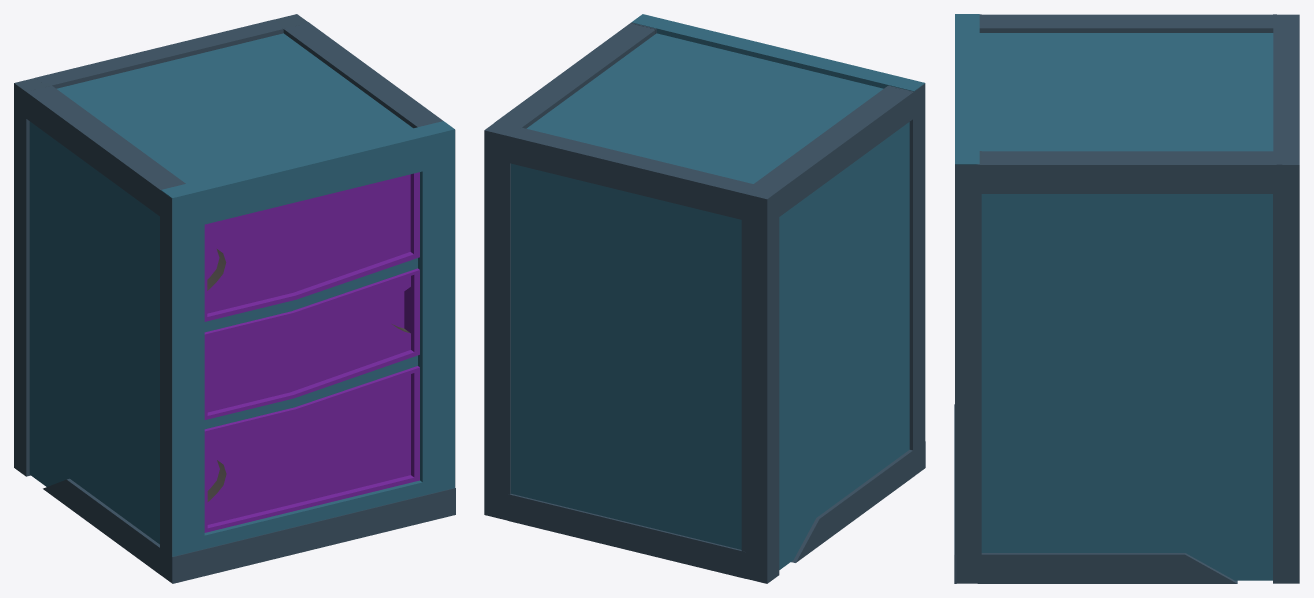
The model's file is bedside_table_tier18.fbx.
3 renders of one model, left to right at view 1: azimuth 30°, elevation 25°; view 2: azimuth 150°, elevation 25°; view 3: azimuth 270°, elevation 25°, orthographic. The views are drawn at different scales.
Parts seen in each view (by area): view 1: Cube.022, Cube.001, Cube.017, Cube.007, Cube.002, Cube.023, Cube.013, Cube.021, Cube.004, Cube.003, Cube.020, Cube.019 (+3 smaller); view 2: Cube.008, Cube.022, Cube.017, Cube.004, Cube.010, Cube.019, Cube.021, Cube.014, Cube.003, Cube.001, Cube.020, Cube.016; view 3: Cube.011, Cube.017, Cube.020, Cube.010, Cube.009, Cube.015, Cube.021, Cube.001, Cube.019.
Part boxes in pixels (x1,y1,x2,y2): Cube.022: (29, 121, 159, 544); Cube.001: (161, 121, 454, 556); Cube.017: (56, 33, 412, 183); Cube.007: (204, 366, 419, 532); Cube.002: (204, 172, 419, 321); Cube.023: (204, 268, 419, 419); Cube.013: (172, 488, 455, 583); Cube.021: (26, 85, 185, 216); Cube.004: (14, 78, 51, 476); Cube.003: (160, 183, 185, 583); Cube.020: (283, 22, 442, 128); Cube.019: (35, 20, 283, 88); Cube.008: (511, 163, 741, 549); Cube.022: (779, 122, 909, 569); Cube.017: (526, 33, 883, 183); Cube.004: (741, 184, 779, 583); Cube.010: (484, 121, 521, 520); Cube.019: (508, 127, 753, 220); Cube.021: (754, 86, 912, 216); Cube.014: (508, 494, 745, 578); Cube.003: (888, 84, 925, 476); Cube.001: (631, 14, 925, 91); Cube.020: (496, 23, 655, 128); Cube.016: (791, 450, 912, 562); Cube.011: (981, 194, 1272, 580); Cube.017: (979, 33, 1273, 151); Cube.020: (977, 151, 1276, 193); Cube.010: (1273, 151, 1299, 583); Cube.009: (955, 151, 981, 583); Cube.015: (977, 553, 1237, 583); Cube.021: (979, 14, 1273, 32); Cube.001: (955, 14, 979, 164); Cube.019: (1273, 25, 1299, 152).
Size of the model in its own units: 77.73 by 101 by 75.39.
